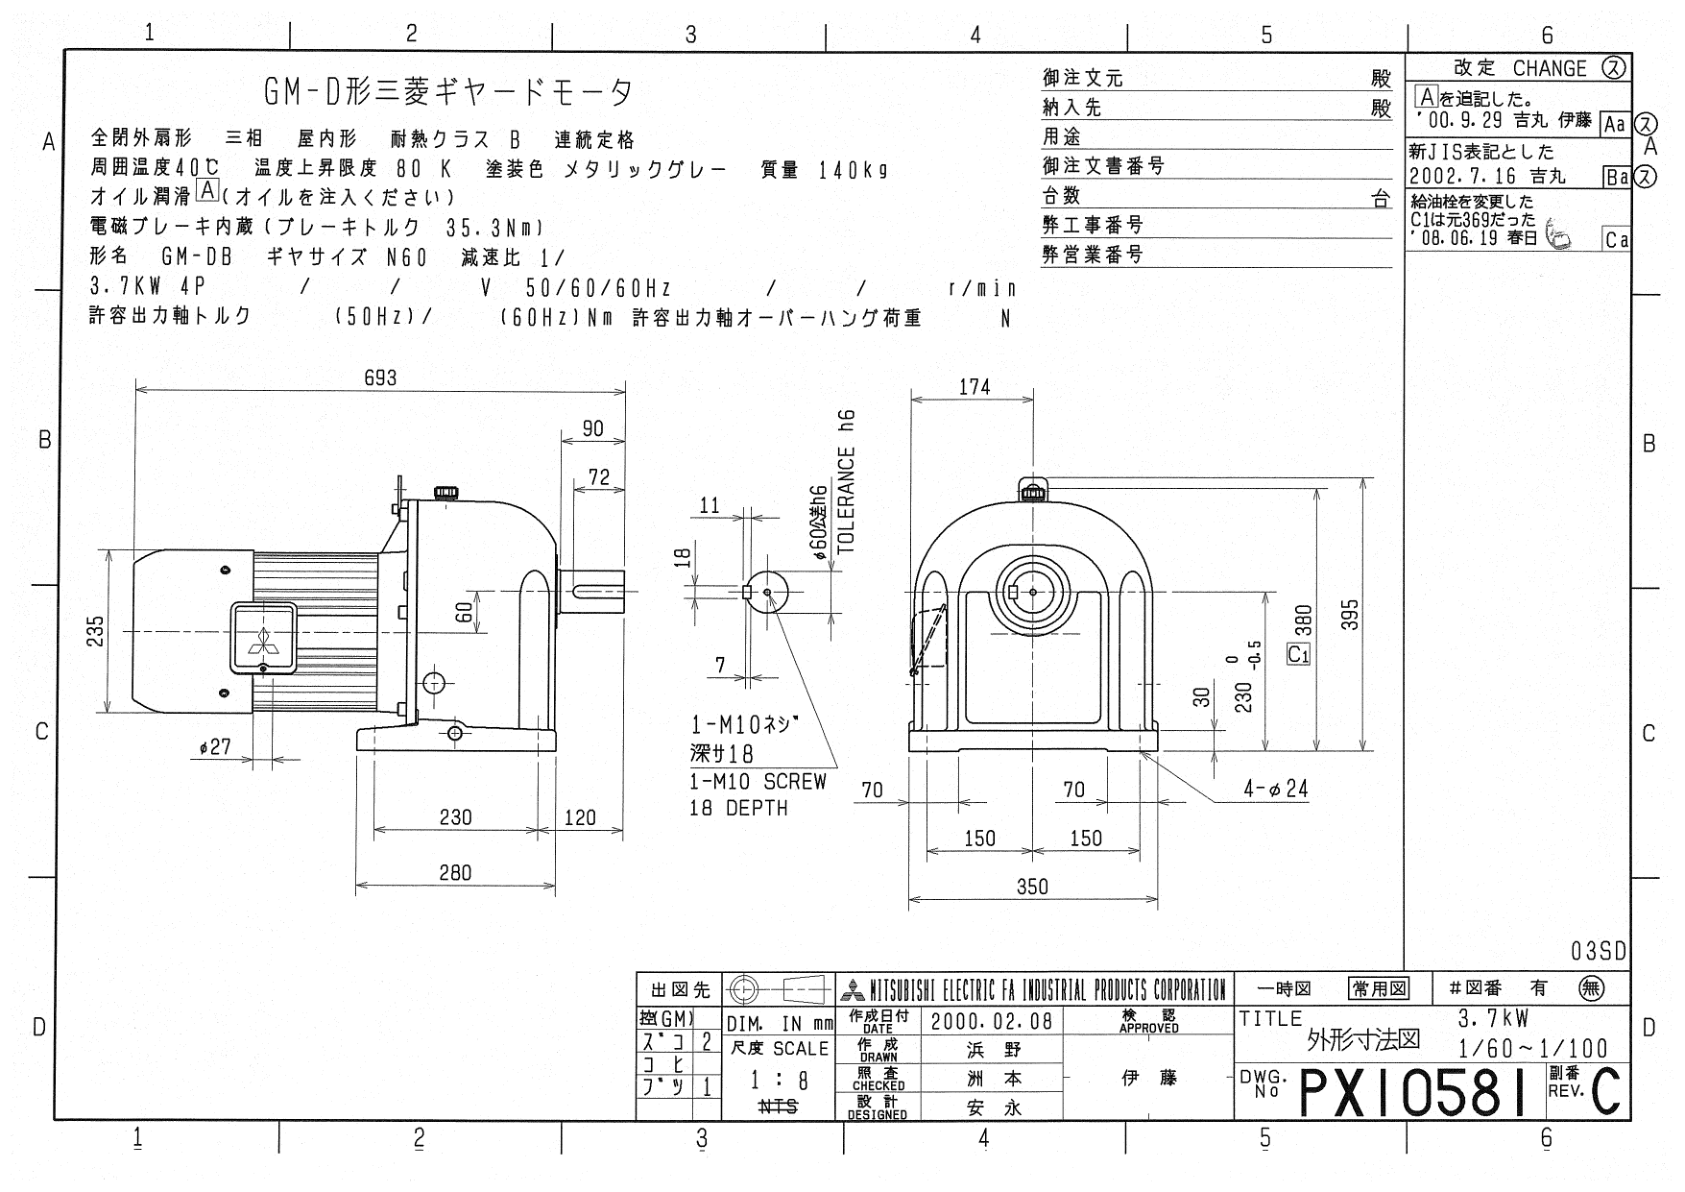GM_D_屋内＿三相_脚: (12, 5, 1685, 1192)
